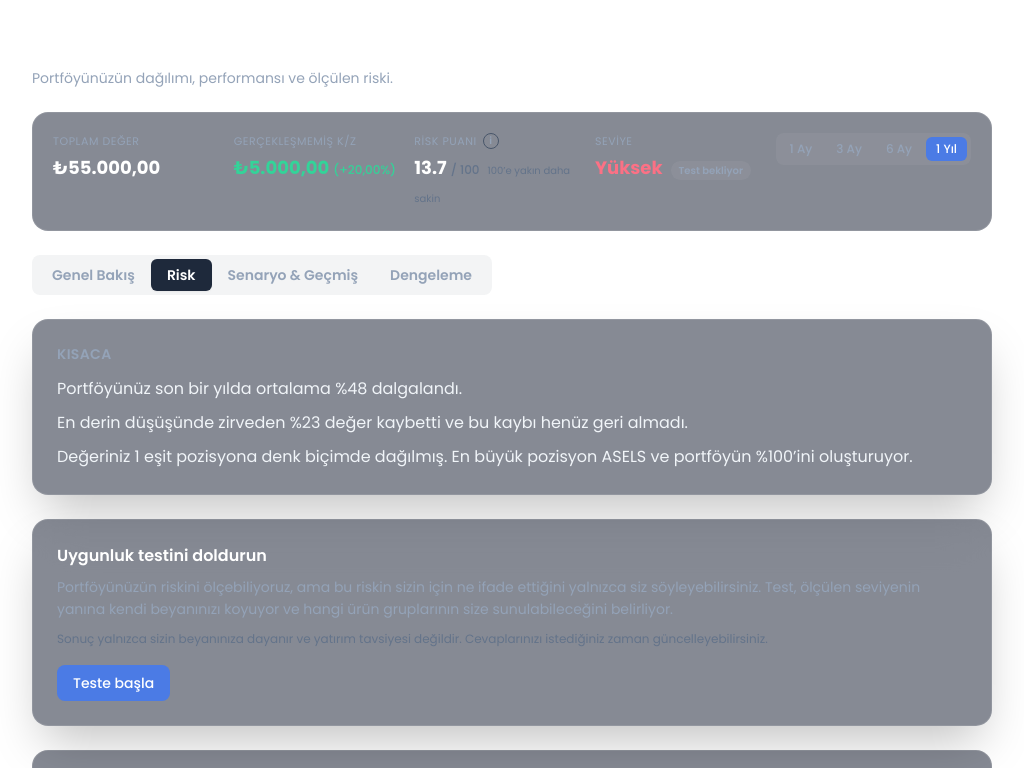
Test: Analiz > Risk — anlaşılırlık › tıklanınca tanımı ve ölçeğini açar
Click the button named "Risk puanı nedir?". click: point(491, 141)
box: [483, 133, 499, 149]
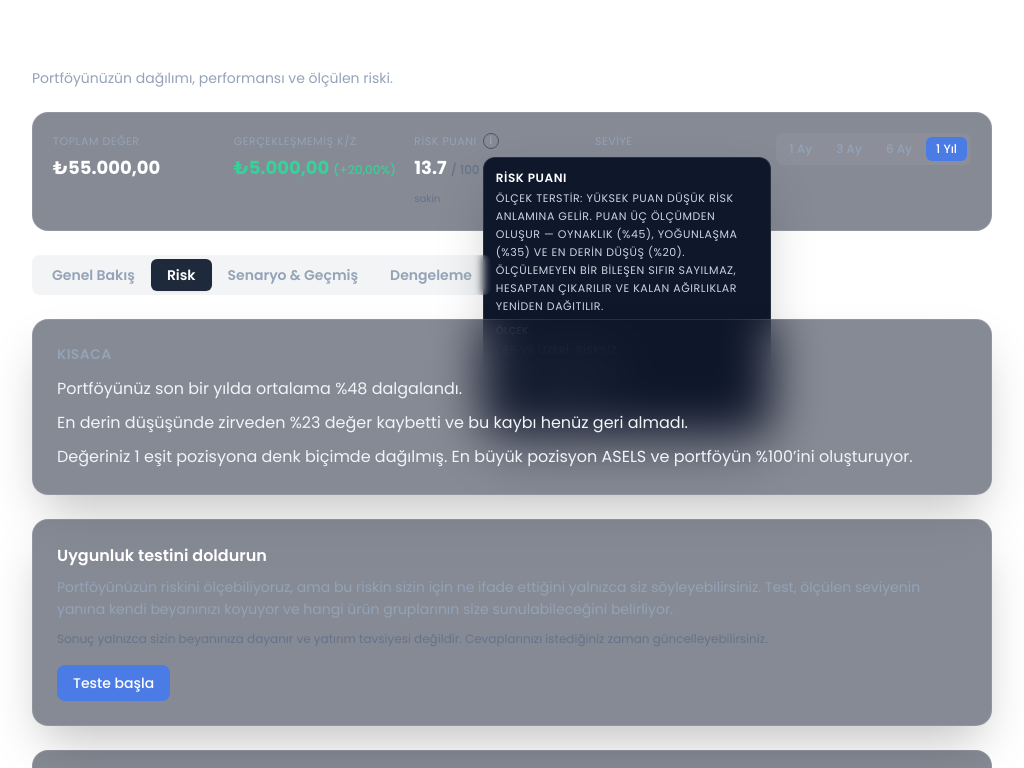
Expected: the tooltip shows "TERSTİR", [496, 190, 737, 314]
Expected: the tooltip shows "Ölçek", [496, 323, 529, 338]
